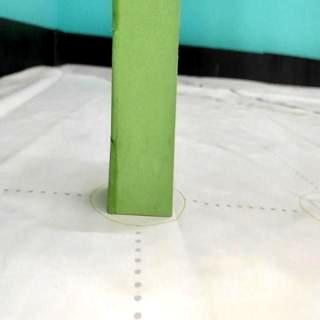greenbox: (108, 0, 178, 217)
